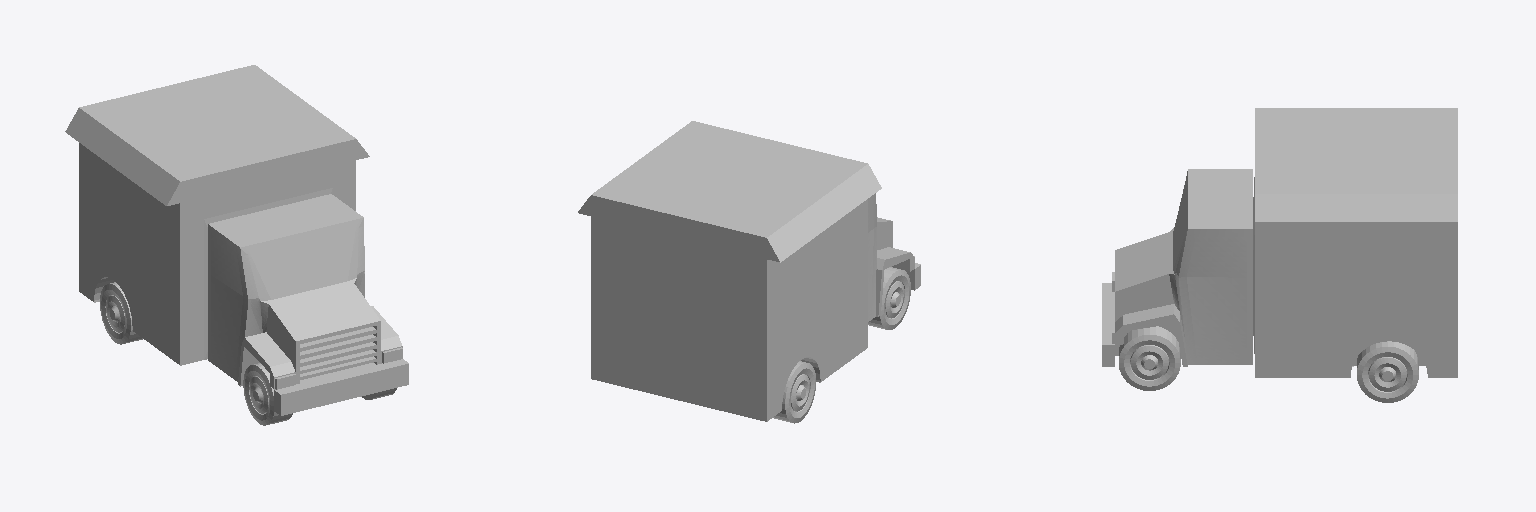
The model's file is camion1.obj.
3 views of the same model, side by side, from view 1: azimuth 30°, elevation 25°; view 2: azimuth 150°, elevation 25°; view 3: azimuth 270°, elevation 25° (orthographic).
Visible parts, largest first — view 1: Cube, Cylinder, Cylinder.002_Cylinder.003; view 2: Cube, Cylinder.002_Cylinder.003, Cylinder; view 3: Cube, Cylinder, Cylinder.002_Cylinder.003.
Part boxes in pixels (x1,y1,x2,y2): Cube: (65, 65, 408, 415); Cylinder: (243, 363, 396, 425); Cylinder.002_Cylinder.003: (100, 282, 142, 344); Cube: (578, 121, 920, 421); Cylinder.002_Cylinder.003: (773, 361, 815, 423); Cylinder: (868, 267, 910, 329); Cube: (1102, 108, 1457, 377); Cylinder: (1119, 326, 1180, 390); Cylinder.002_Cylinder.003: (1357, 341, 1418, 402).
Size of the model in its own units: 2.31 by 2.28 by 3.51.